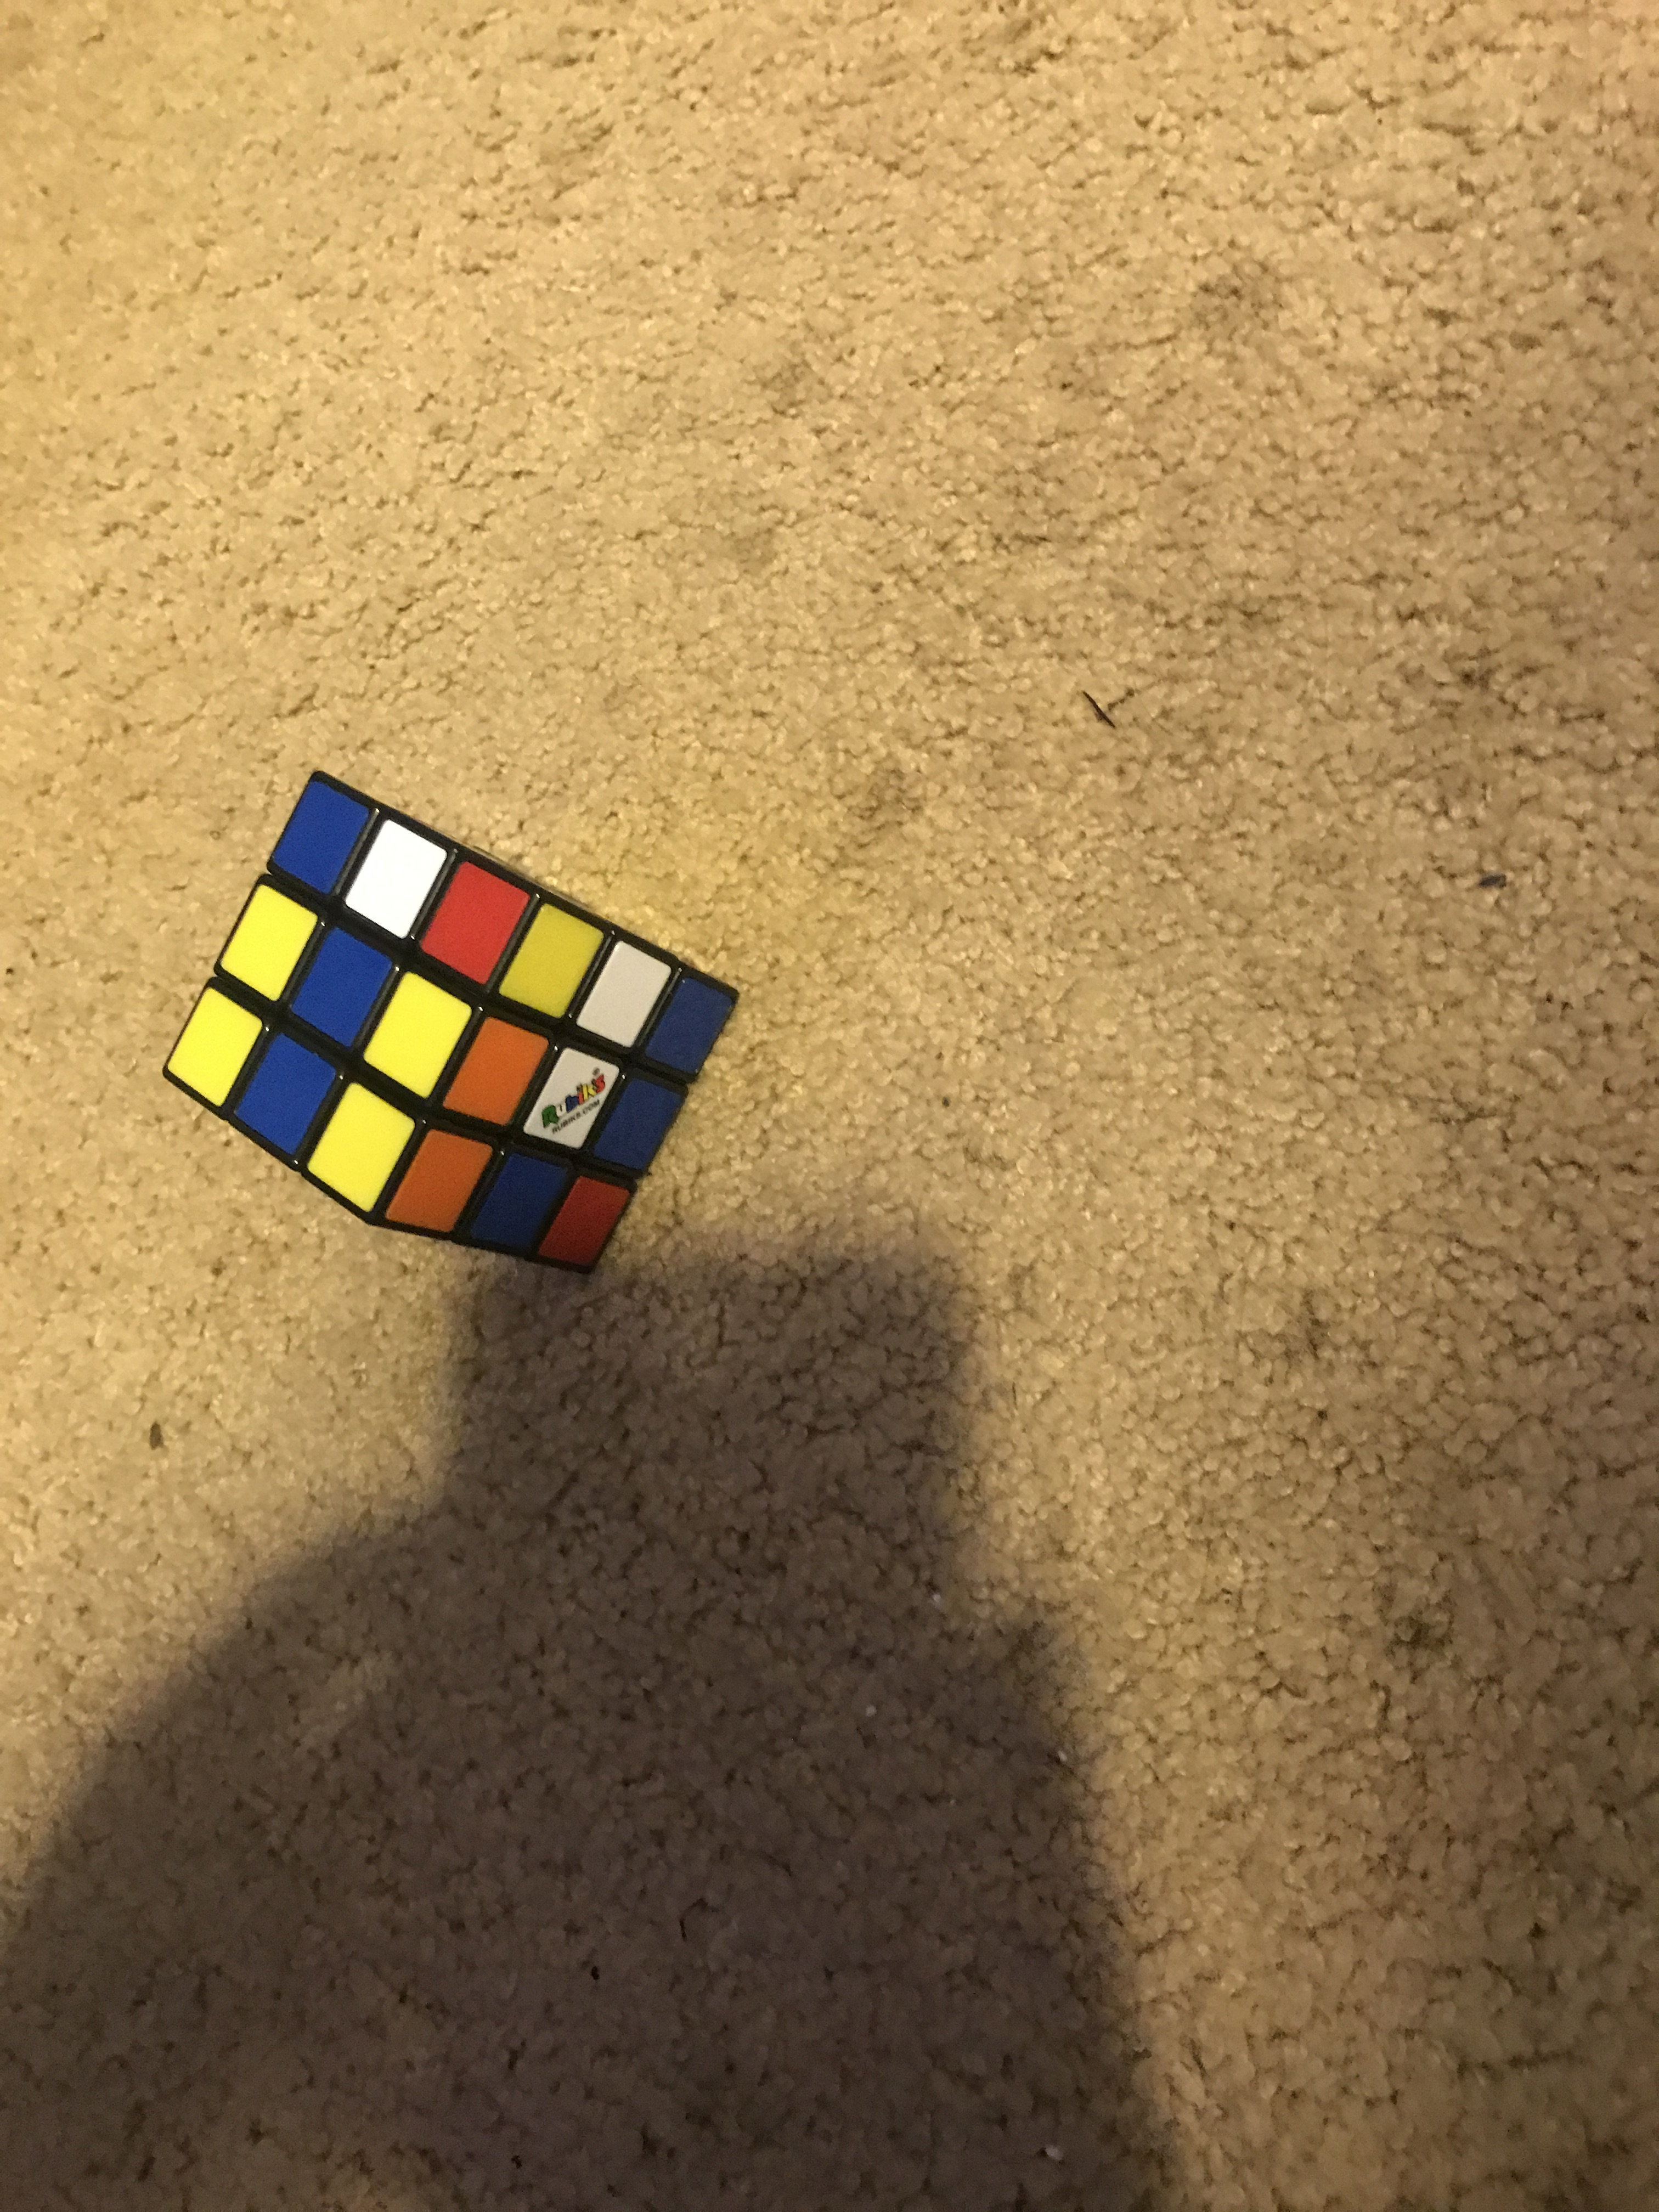rubiks: (162, 772, 739, 1285)
